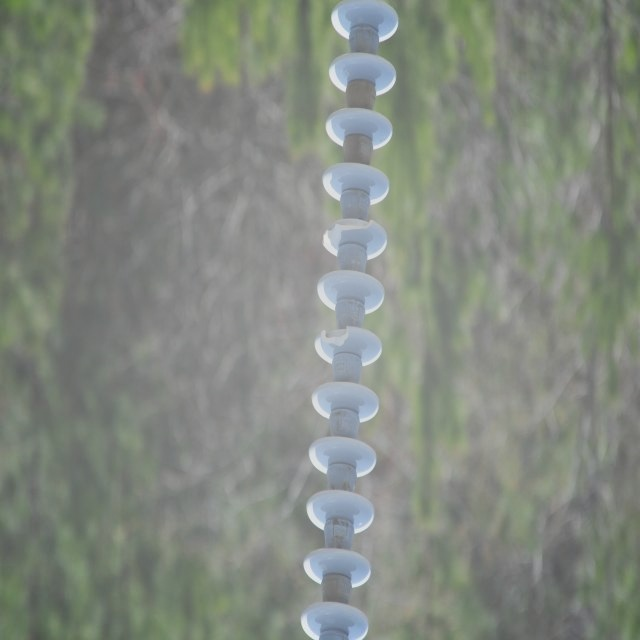broken: (320, 218, 374, 248), (318, 322, 353, 346)
insulator: (300, 0, 401, 638)
